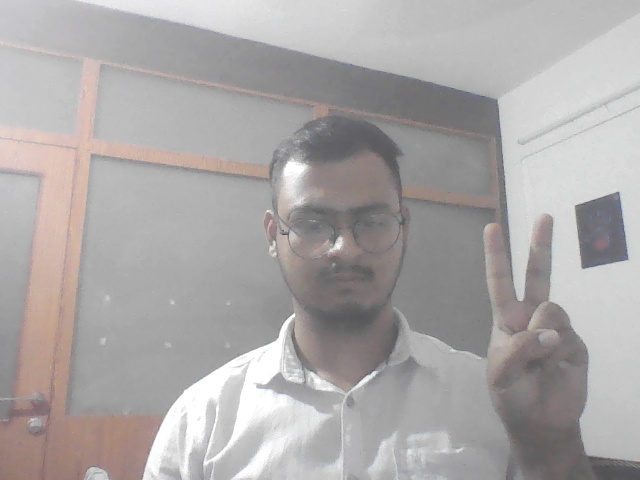Peace: (469, 209, 601, 435)
